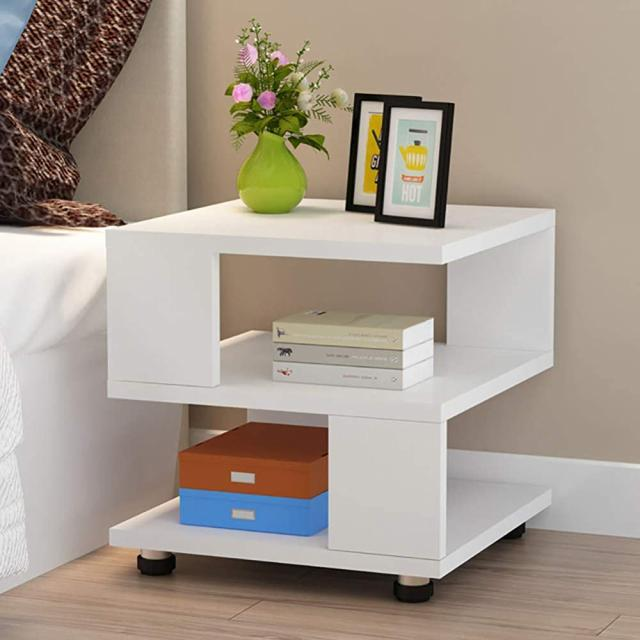beside table: (160, 164, 554, 602)
tree: (222, 48, 324, 166)
